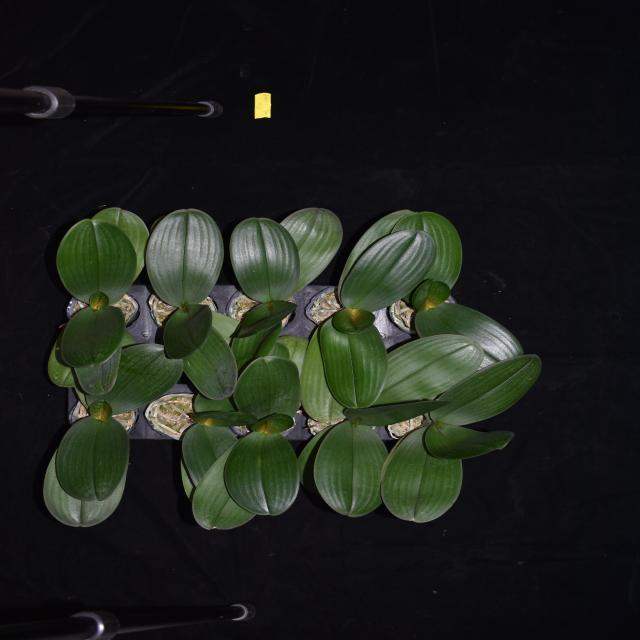leaf: (402, 307, 540, 413), (179, 426, 295, 527), (346, 212, 459, 308), (44, 413, 126, 526), (223, 303, 302, 417), (302, 306, 385, 406), (56, 207, 143, 301), (301, 420, 384, 518), (389, 420, 466, 520), (147, 202, 222, 299), (232, 210, 298, 299), (282, 202, 339, 291), (57, 308, 124, 369), (164, 302, 208, 360)
